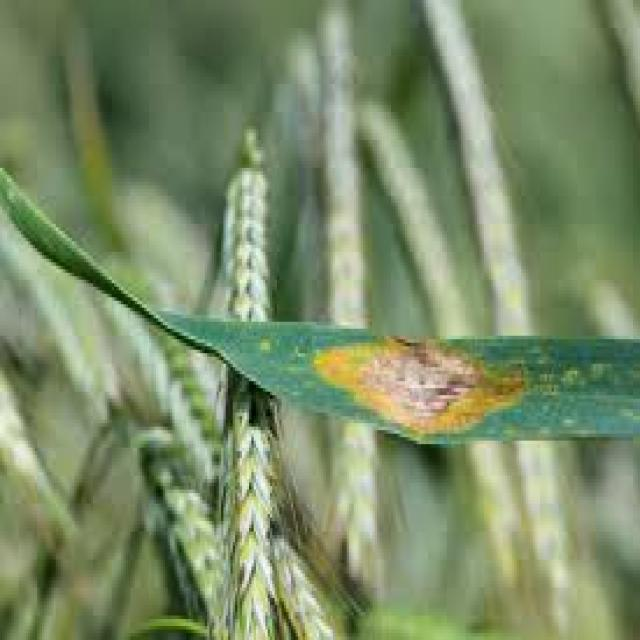leaf_blight: (0, 171, 638, 441)
